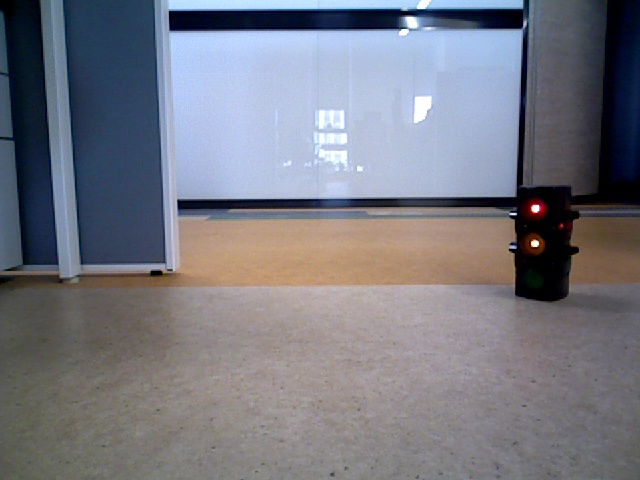red: (517, 189, 569, 293)
